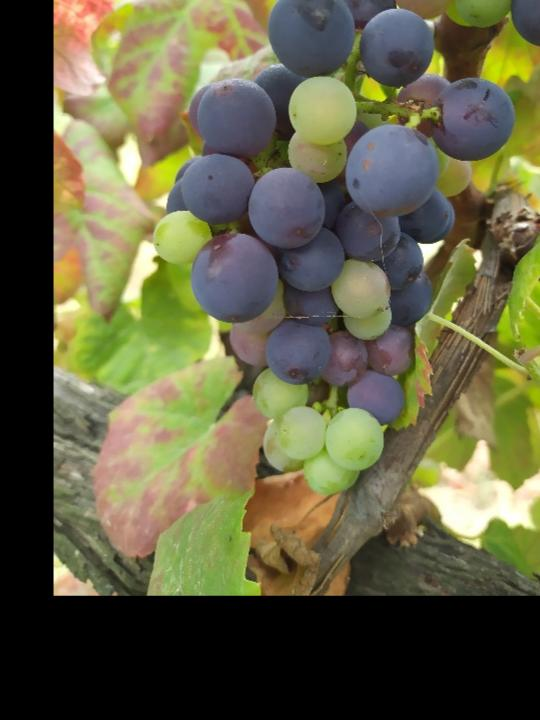grape: (151, 0, 520, 498)
